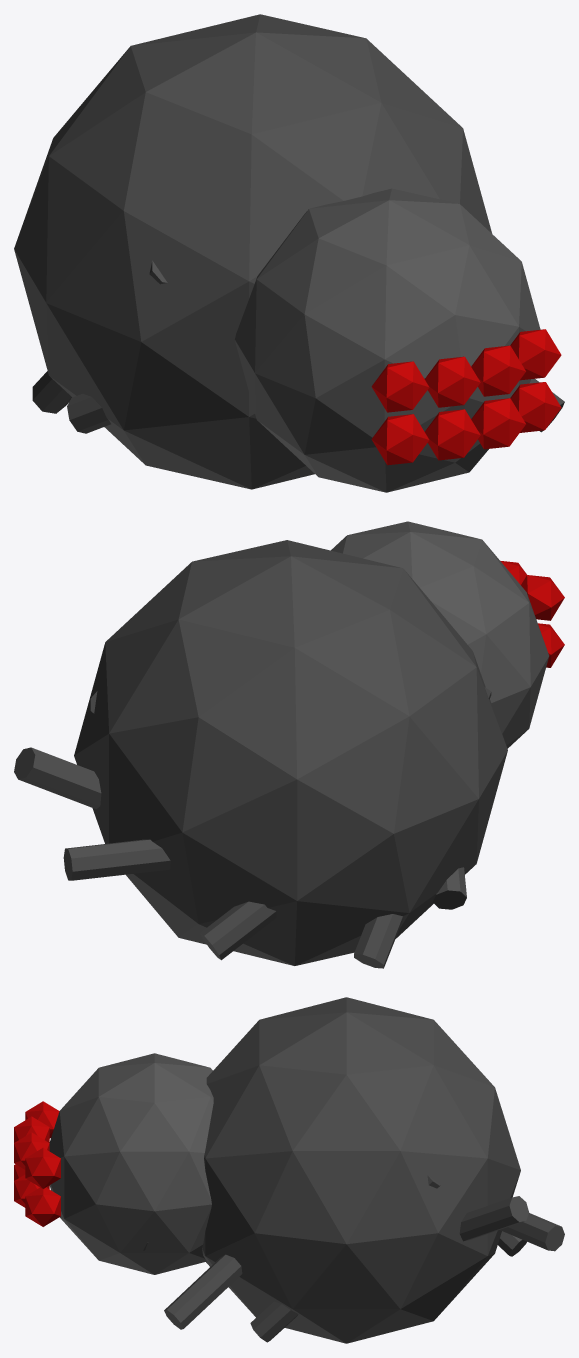
File: spider.glb
3 renders of one model, top to bottom at view 1: azimuth 30°, elevation 25°; view 2: azimuth 150°, elevation 25°; view 3: azimuth 270°, elevation 25°, orthographic. The views are drawn at different scales.
Parts seen in each view (by area): view 1: part_00, part_01, part_10, part_14, part_11, part_15, part_16, part_12, part_17, part_13, part_06, part_05; view 2: part_00, part_01, part_08, part_09, part_07, part_06, part_10, part_05, part_14; view 3: part_00, part_01, part_03, part_09, part_08, part_02, part_13, part_17, part_12, part_11, part_10, part_16 (+1 smaller).
Part boxes in pixels (x1,y1,x2,y2): part_00: [14, 14, 492, 489]; part_01: [235, 188, 540, 492]; part_10: [371, 361, 429, 412]; part_14: [371, 414, 429, 465]; part_11: [424, 356, 480, 407]; part_15: [425, 409, 480, 460]; part_16: [471, 398, 525, 449]; part_12: [471, 345, 525, 396]; part_17: [510, 382, 561, 432]; part_13: [510, 329, 561, 380]; part_06: [32, 260, 167, 413]; part_05: [67, 393, 110, 433]; part_00: [74, 540, 507, 965]; part_01: [331, 521, 549, 748]; part_08: [63, 839, 170, 880]; part_09: [14, 747, 101, 809]; part_07: [200, 901, 276, 960]; part_06: [354, 687, 491, 968]; part_10: [521, 575, 564, 620]; part_05: [432, 867, 466, 909]; part_14: [538, 623, 564, 667]; part_00: [202, 997, 520, 1343]; part_01: [49, 1053, 213, 1274]; part_03: [164, 1254, 242, 1329]; part_09: [459, 1196, 528, 1241]; part_08: [500, 1213, 564, 1251]; part_02: [250, 1175, 440, 1342]; part_13: [25, 1147, 60, 1188]; part_17: [25, 1187, 60, 1226]; part_12: [14, 1132, 49, 1169]; part_11: [14, 1116, 49, 1142]; part_10: [25, 1101, 59, 1138]; part_16: [14, 1174, 49, 1207].
Size of the model in its own units: 1 by 1 by 1.58.
